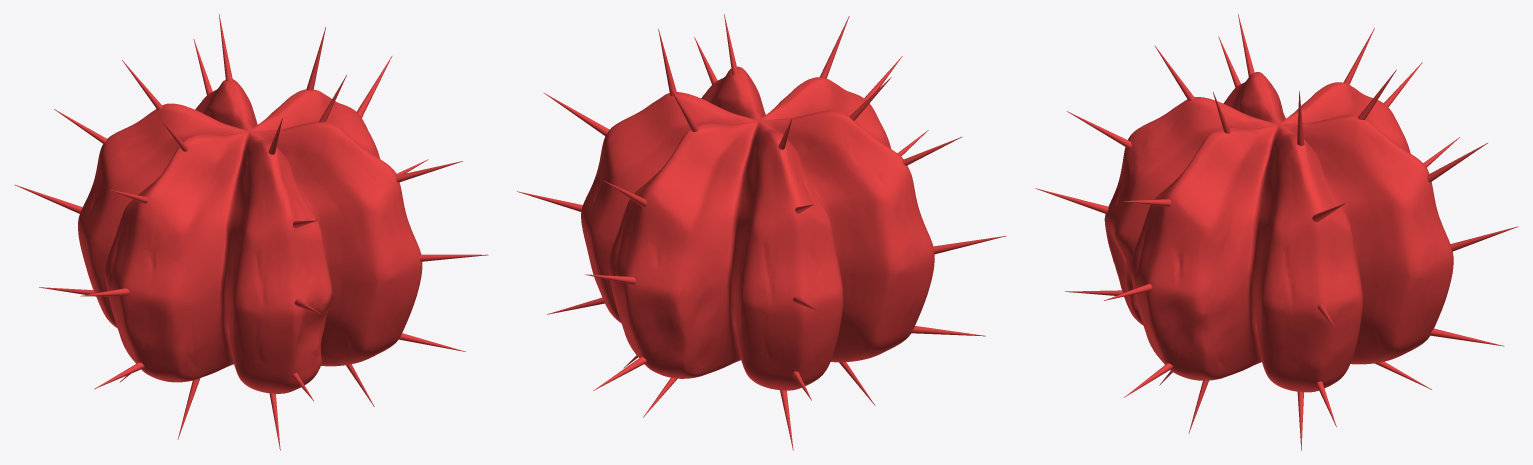
The model's file is spiky_fruit_hp.fbx.
3 views of the same model, side by side, from view 1: azimuth 30°, elevation 25°; view 2: azimuth 150°, elevation 25°; view 3: azimuth 270°, elevation 25° (orthographic). The views are drawn at different scales.
Visible parts, largest first — view 1: fruit_retoponew:spiky_fruit_hp; view 2: fruit_retoponew:spiky_fruit_hp; view 3: fruit_retoponew:spiky_fruit_hp.
Boxes of the visible parts, x1=… form: fruit_retoponew:spiky_fruit_hp: x1=14, y1=14, x2=488, y2=450; fruit_retoponew:spiky_fruit_hp: x1=517, y1=14, x2=1006, y2=450; fruit_retoponew:spiky_fruit_hp: x1=1035, y1=14, x2=1518, y2=450.
Size of the model in its own units: 322 by 258 by 321.
